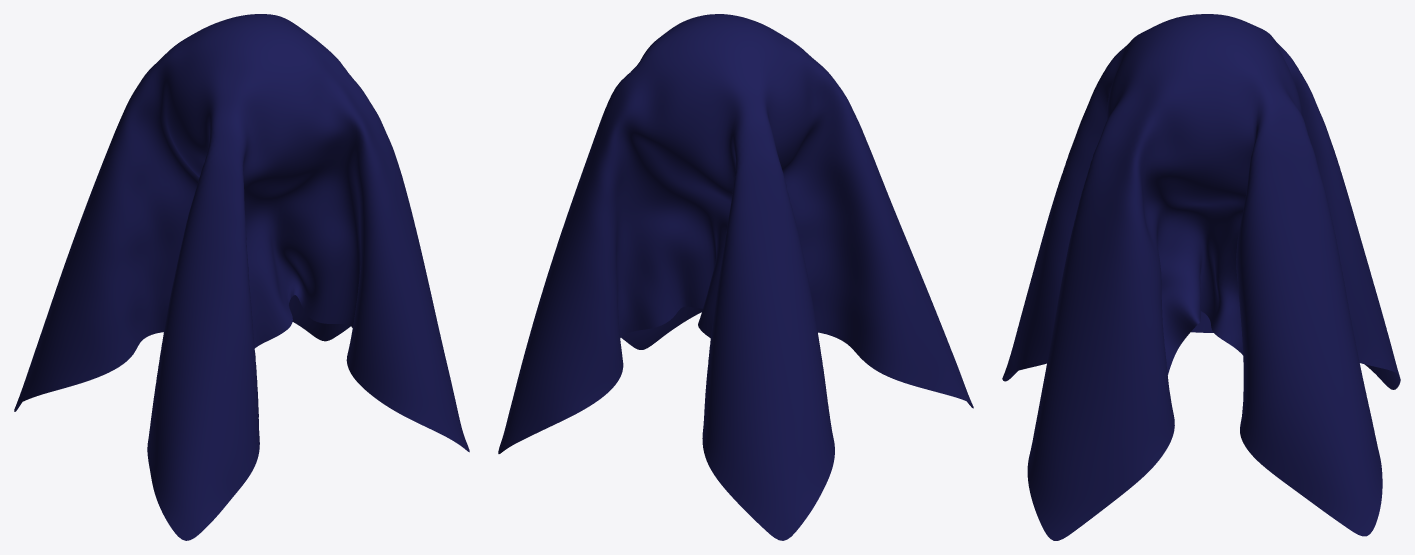
The model's file is defualt enemy.fbx.
The picture shows the model from 3 angles, left to right: view 1: azimuth 30°, elevation 25°; view 2: azimuth 150°, elevation 25°; view 3: azimuth 270°, elevation 25°; orthographic projection. The views are drawn at different scales.
Parts seen in each view (by area): view 1: Plane; view 2: Plane; view 3: Plane.
Boxes of the visible parts, x1,y1,x2,y2 form: Plane: (14,14,469,540); Plane: (498,14,973,540); Plane: (1002,14,1400,540).
Size of the model in its own units: 95.71 by 120 by 97.31.
